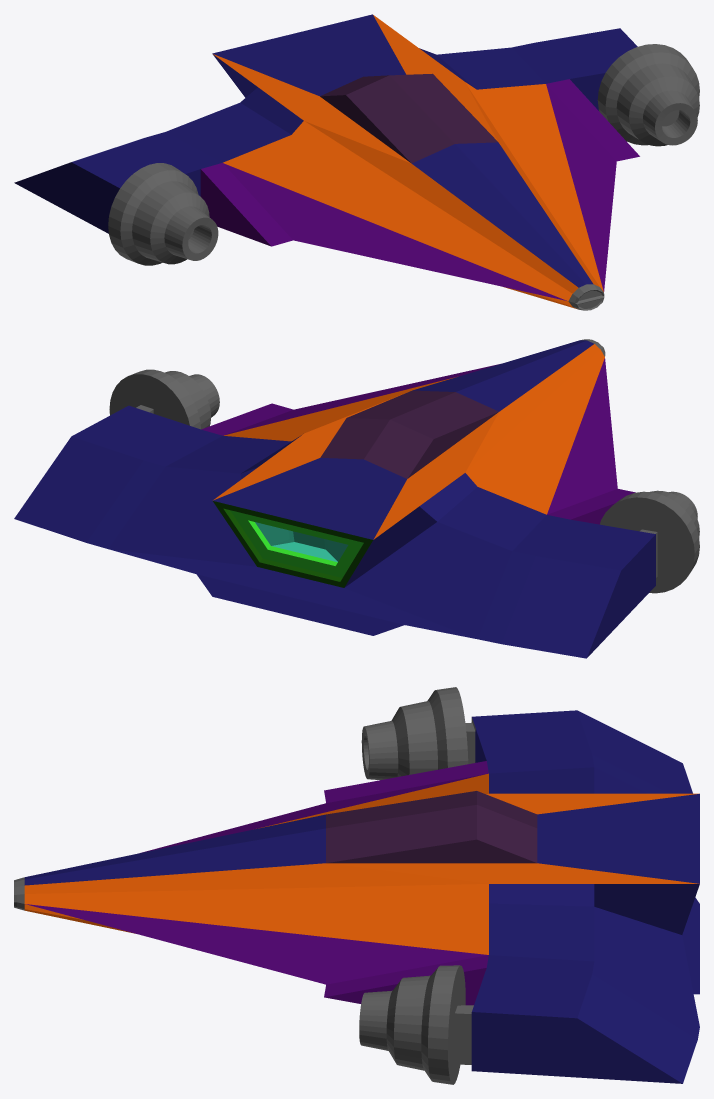
Rendered from SpaceShipFColored.fbx.
3 renders of one model, top to bottom at view 1: azimuth 30°, elevation 25°; view 2: azimuth 150°, elevation 25°; view 3: azimuth 270°, elevation 25°, orthographic. The views are drawn at different scales.
Visible parts, largest first — view 1: Cone; view 2: Cone; view 3: Cone.
Boxes of the visible parts, left/top/right/bottom form: Cone: left=14, top=14, right=699, bottom=310; Cone: left=14, top=339, right=699, bottom=658; Cone: left=14, top=687, right=699, bottom=1084.
Size of the model in its own units: 515 by 130 by 455.
